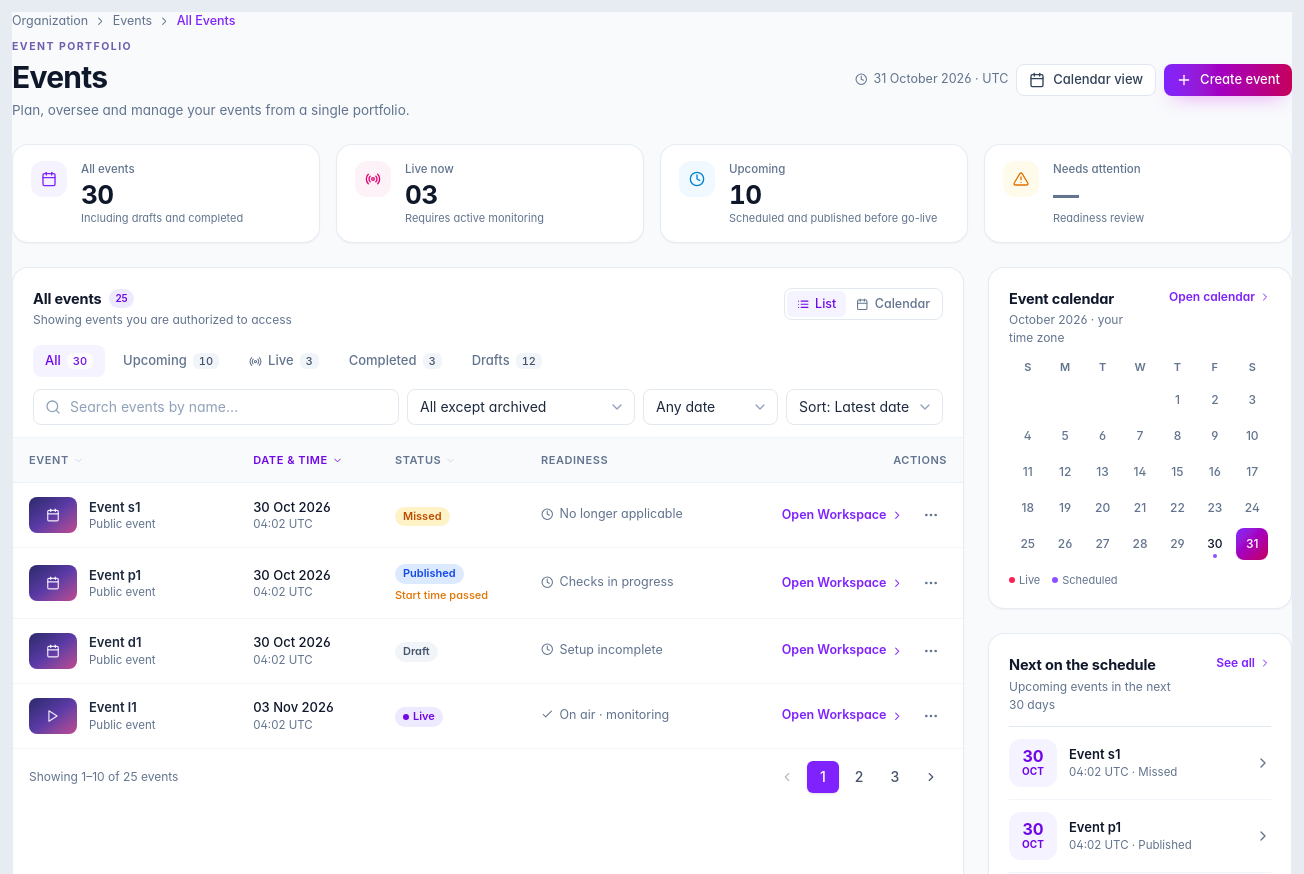
Test: the Events list › filters on the server, from the first page
The image size is (1304, 874).
Expected: the button "Event s1" is shown, [89,498,140,516]
Select "Cancelled" in the dropdown named "Filter by status": point(521, 407) [407,389,635,425]
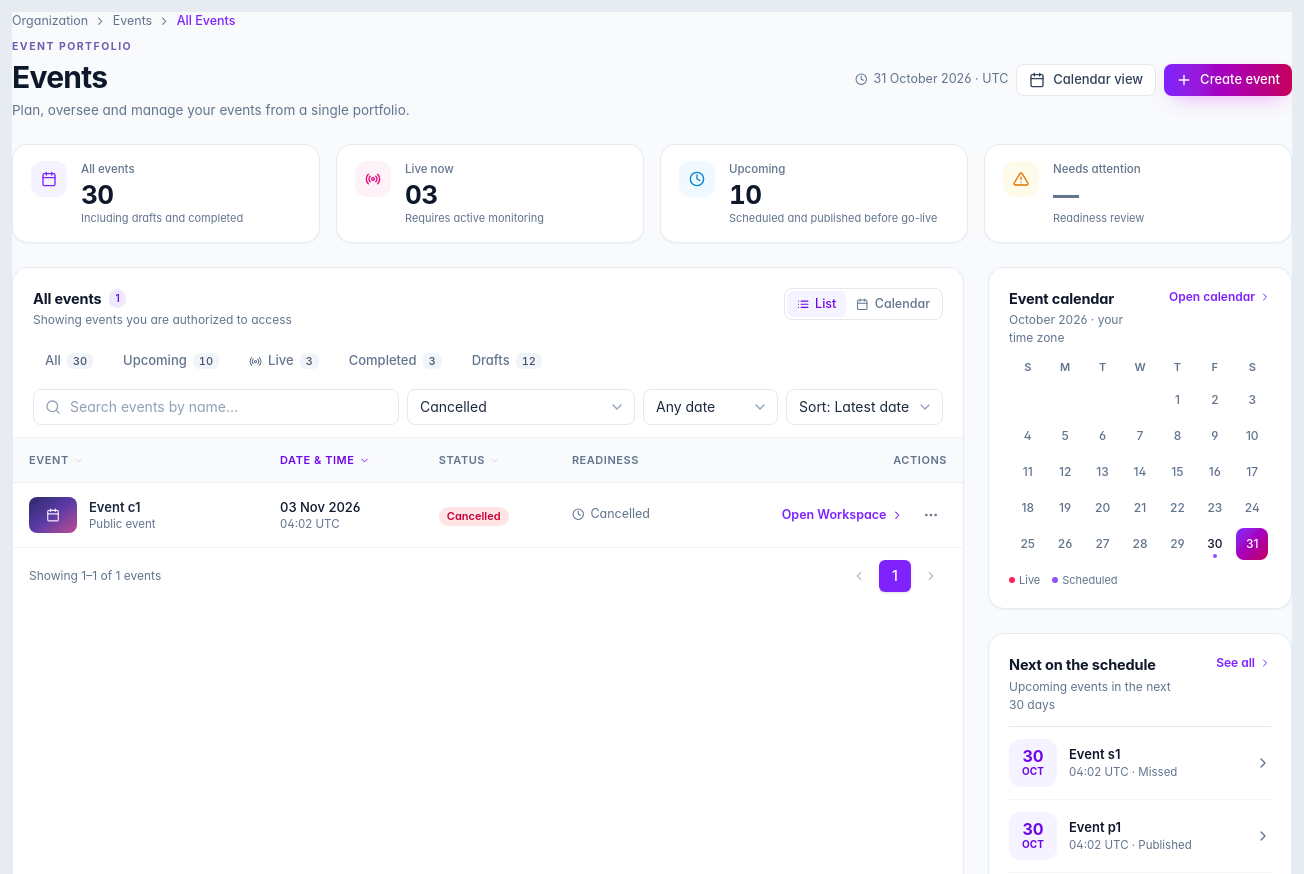
Now the button "Event c1" is shown, box [89,498,140,516]
